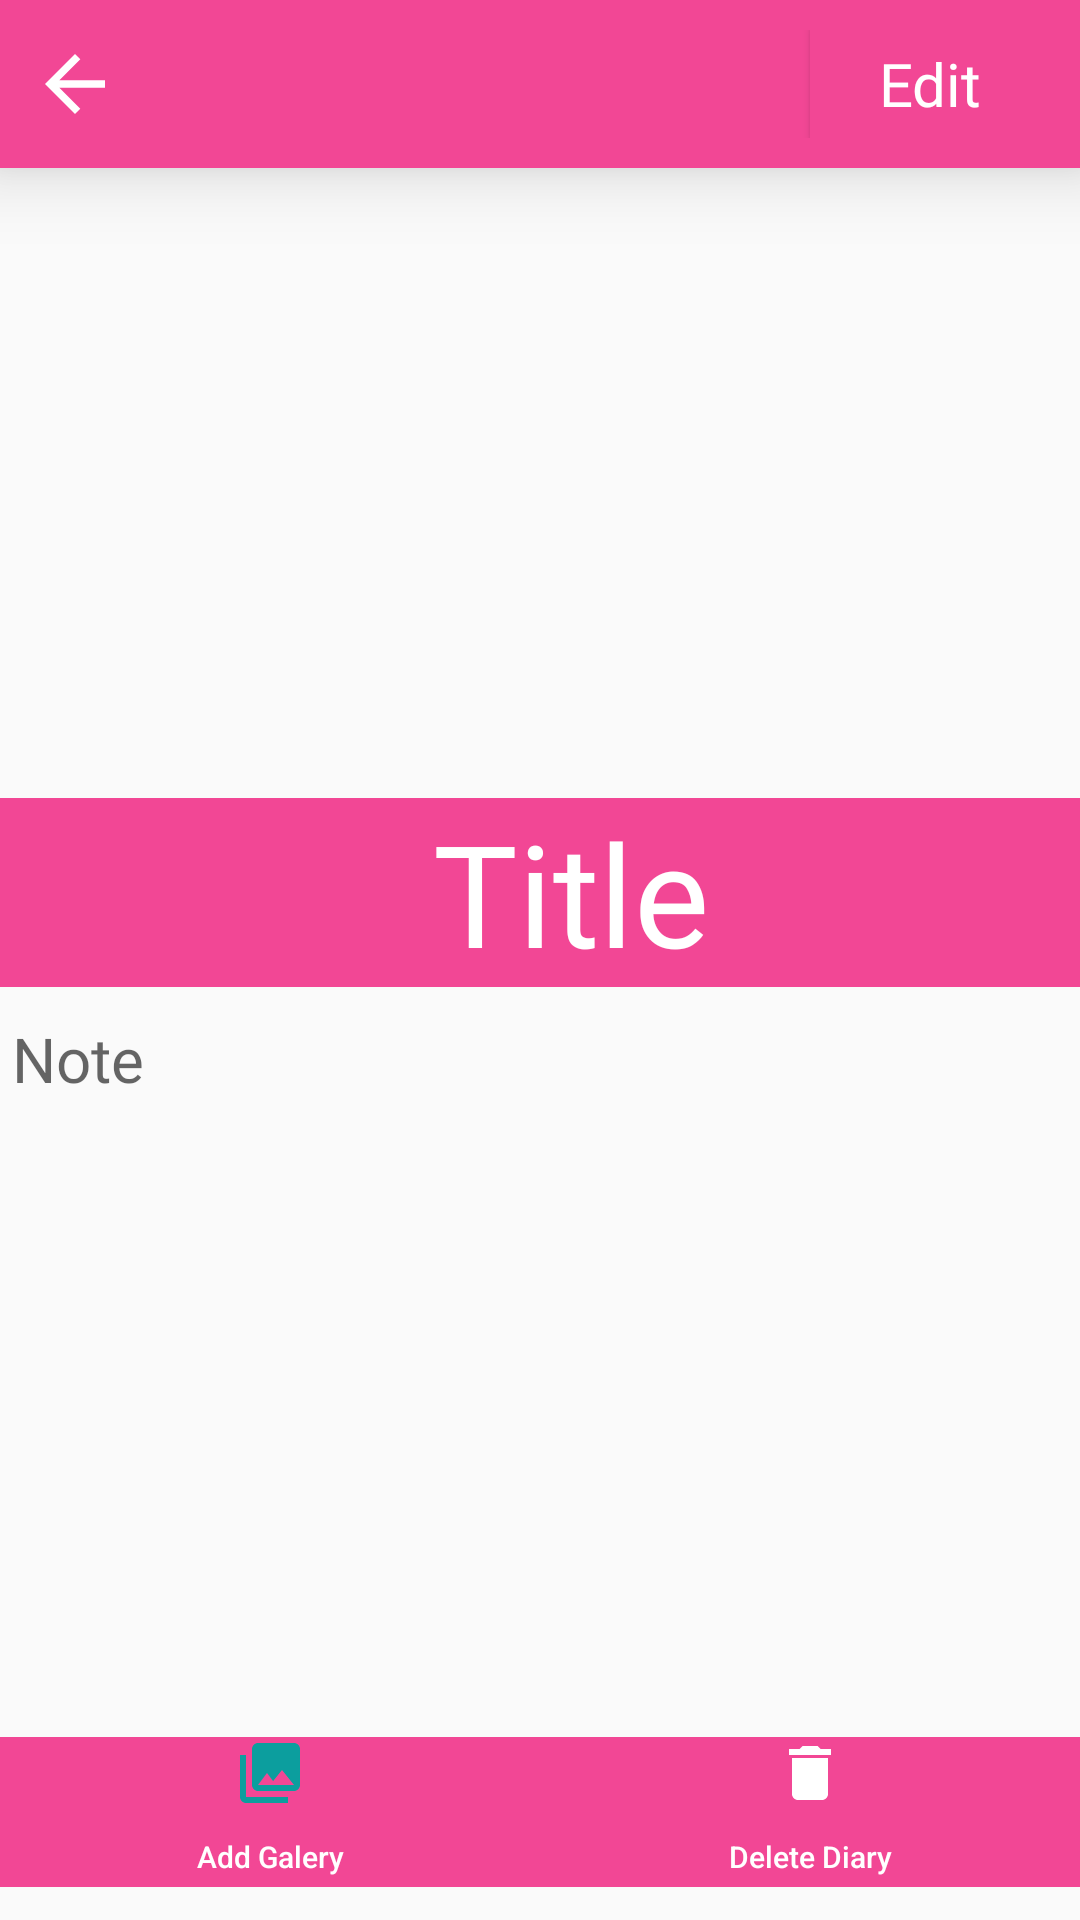

Named icons in this screenshot (1080 × 1920) and their bounding boxes, (x1, y1, x2, y2):
arrow back: (45, 54, 105, 114)
